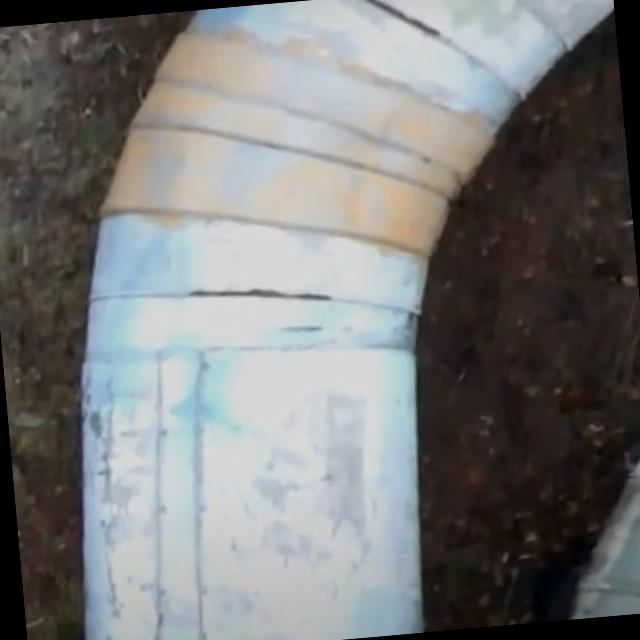gas: (82, 0, 614, 640)
